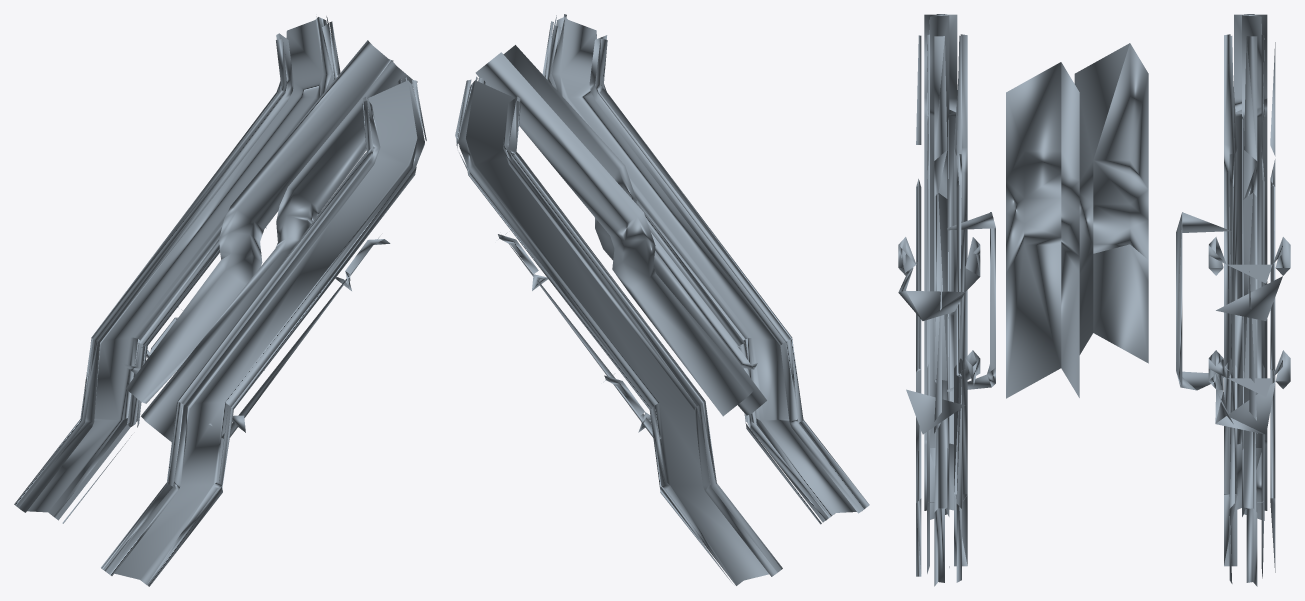
The model's file is backdrop_lpad_support_a_lod3.glb.
3 renders of one model, left to right at view 1: azimuth 30°, elevation 25°; view 2: azimuth 150°, elevation 25°; view 3: azimuth 270°, elevation 25°, orthographic. The views are drawn at different scales.
Bounding box in the file's own units: 188 × 229 × 104.
